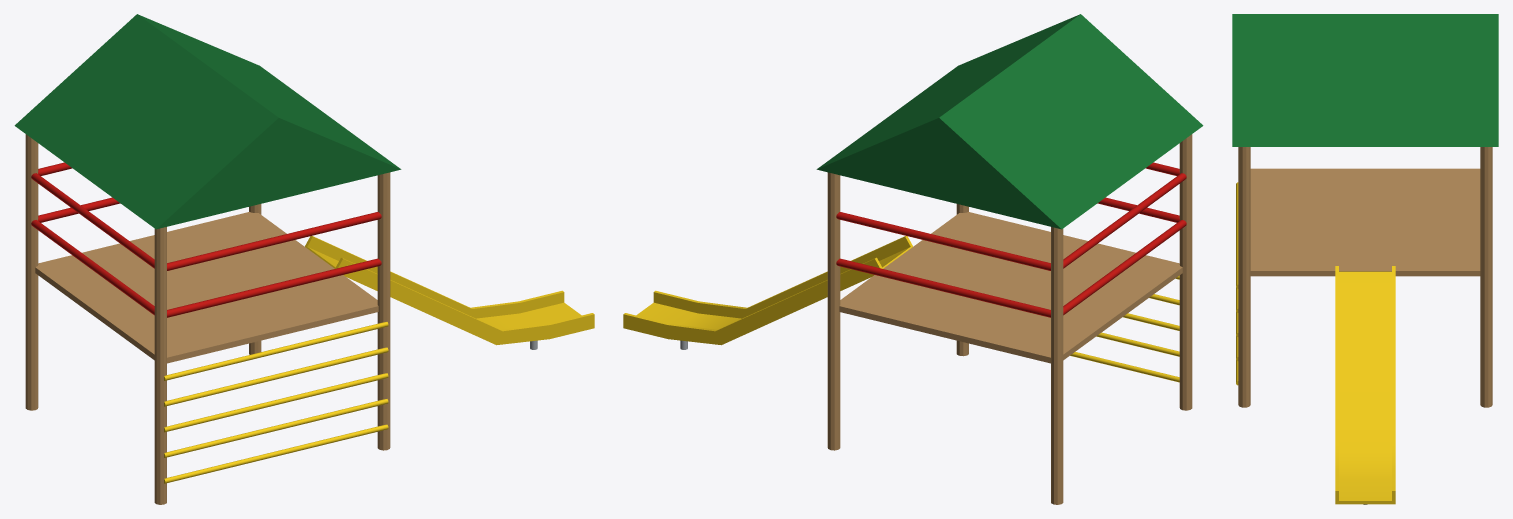
File: school.play.climbing_frame.glb
3 renders of one model, left to right at view 1: azimuth 30°, elevation 25°; view 2: azimuth 150°, elevation 25°; view 3: azimuth 270°, elevation 25°, orthographic. The views are drawn at different scales.
Parts seen in each view (by area): view 1: main__plastic_green, main__softwood, main__plastic_yellow, main__plastic_red; view 2: main__plastic_green, main__softwood, main__plastic_yellow, main__plastic_red; view 3: main__plastic_green, main__softwood, main__plastic_yellow.
Boxes of the visible parts, x1,y1,x2,y2 form: main__plastic_green: (14, 14, 401, 229); main__softwood: (25, 134, 390, 504); main__plastic_yellow: (164, 236, 594, 483); main__plastic_red: (31, 162, 381, 317); main__plastic_green: (816, 14, 1203, 229); main__softwood: (827, 134, 1192, 504); main__plastic_yellow: (623, 236, 1179, 382); main__plastic_red: (836, 162, 1186, 317); main__plastic_green: (1232, 14, 1498, 146); main__softwood: (1238, 147, 1492, 407); main__plastic_yellow: (1236, 182, 1395, 504).
Size of the model in its own units: 4.42 by 3.1 by 2.2.
